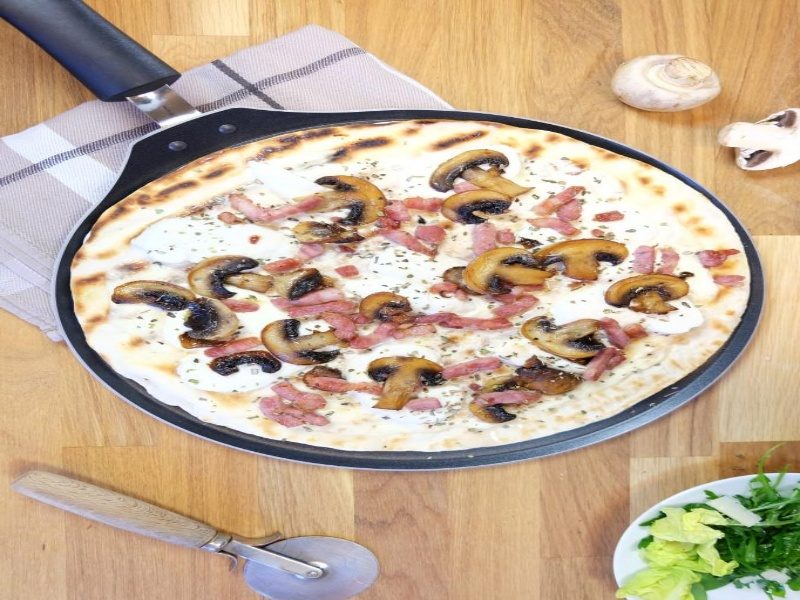champignon: (427, 146, 536, 202), (366, 352, 449, 425), (459, 242, 556, 301), (254, 318, 353, 373), (301, 174, 390, 234), (519, 315, 616, 366), (183, 250, 276, 303), (531, 235, 631, 283), (599, 270, 695, 320), (181, 296, 248, 352), (107, 276, 198, 315), (436, 187, 517, 230), (356, 287, 416, 327)
